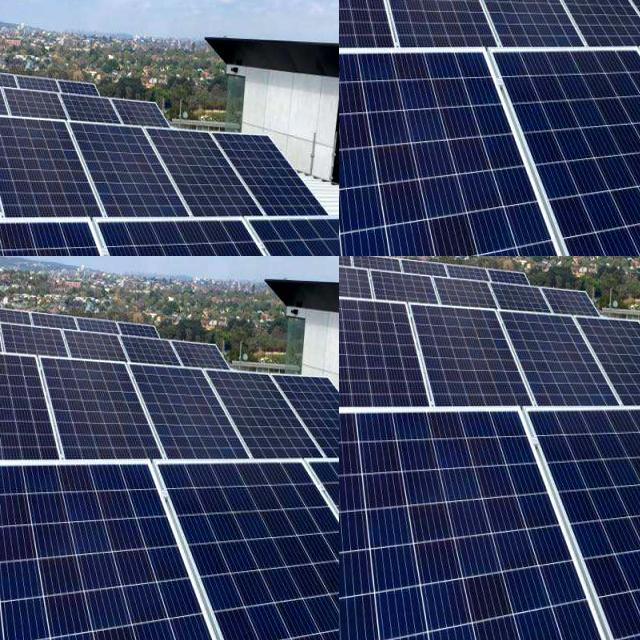crack: (339, 416, 609, 640), (538, 428, 640, 640), (403, 302, 543, 426), (491, 300, 623, 419), (339, 292, 432, 422), (563, 306, 640, 426), (367, 256, 444, 320), (420, 271, 510, 320), (339, 256, 378, 315)
dust: (77, 146, 339, 256), (339, 0, 477, 169), (476, 0, 640, 82), (205, 352, 339, 407), (402, 0, 529, 45), (78, 358, 162, 401), (545, 0, 610, 54), (339, 0, 395, 57), (240, 307, 339, 339), (129, 316, 204, 350), (253, 270, 339, 295), (155, 284, 233, 305), (0, 376, 32, 396)
